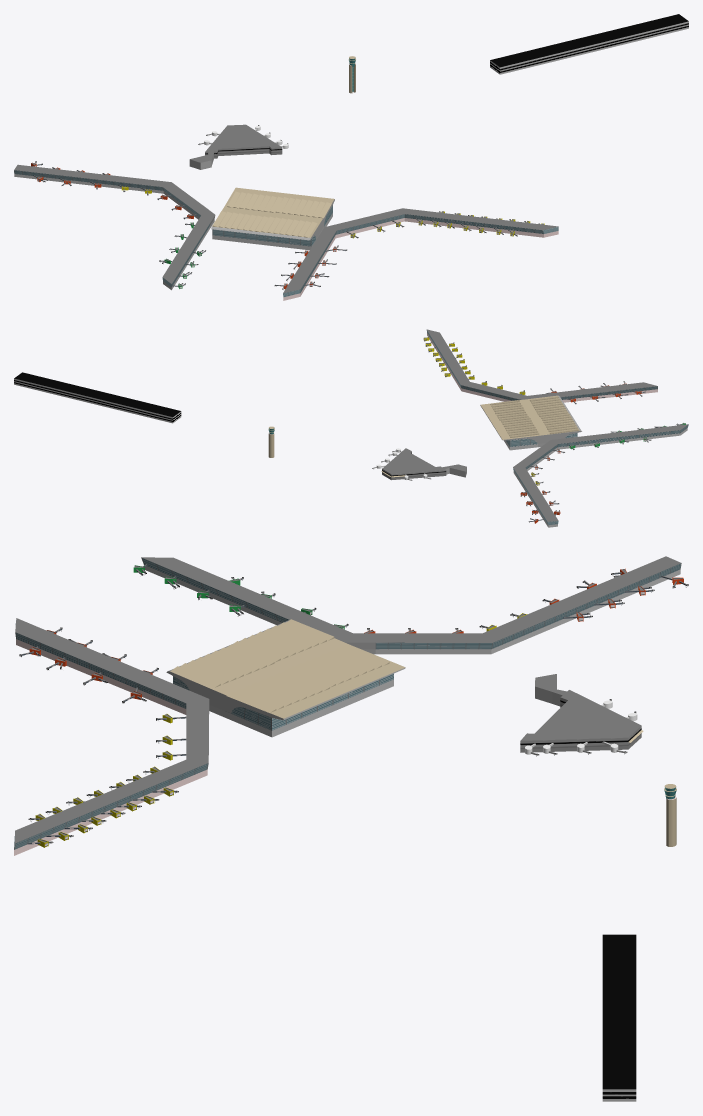
File: geofsvidp3.gltf
3 renders of one model, top to bottom at view 1: azimuth 30°, elevation 25°; view 2: azimuth 150°, elevation 25°; view 3: azimuth 270°, elevation 25°, orthographic. The views are drawn at different scales.
Visible parts, largest first — view 1: Plane, Cube.002, Plane.017, Cube.003, Cube; view 2: Plane, Cube.003, Cube.002, Plane.017, Cube; view 3: Plane, Plane.017, Cube.003, Cube.002, Cube.
Part boxes in pixels (box(x1,y1,x2,y2)): Plane: box(14, 124, 558, 300); Cube.002: box(490, 14, 688, 74); Plane.017: box(213, 191, 331, 237); Cube.003: box(211, 187, 334, 250); Cube: box(31, 125, 544, 290); Plane: box(381, 329, 688, 527); Cube.003: box(480, 395, 581, 450); Cube.002: box(14, 372, 181, 423); Plane.017: box(490, 396, 579, 437); Cube: box(372, 336, 685, 523); Plane: box(14, 556, 681, 855); Plane.017: box(172, 619, 389, 712); Cube.003: box(166, 620, 405, 737); Cube.002: box(602, 934, 636, 1101); Cube: box(20, 564, 688, 847).
Bounding box in the file's own units: 1747 × 97.39 × 927.
Materials: 6 (1 with a texture image).
